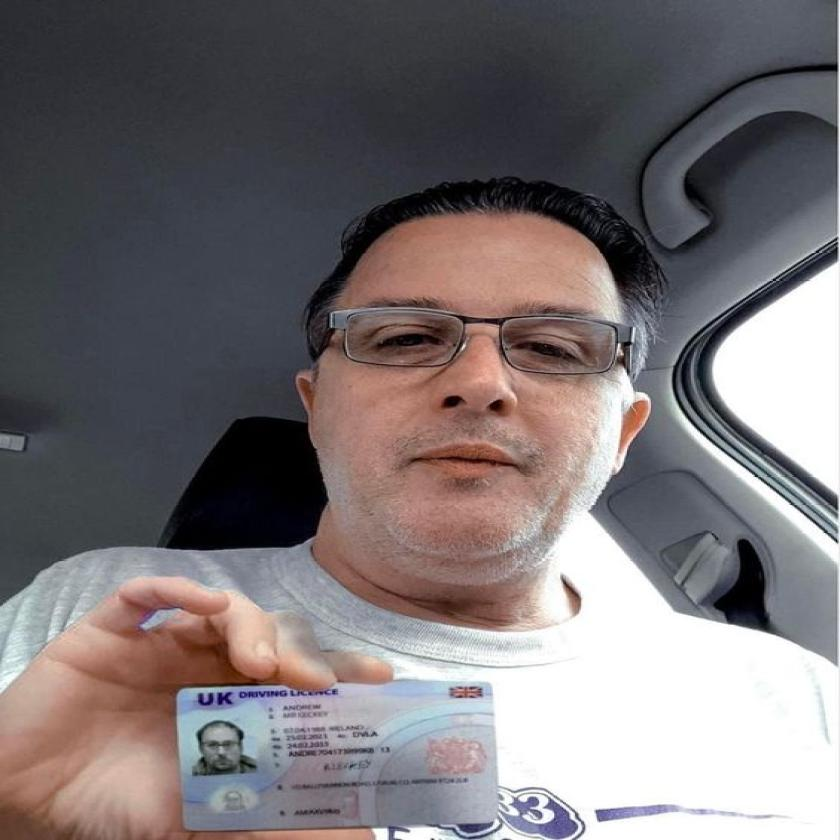Sin_casco: (305, 172, 675, 617)
